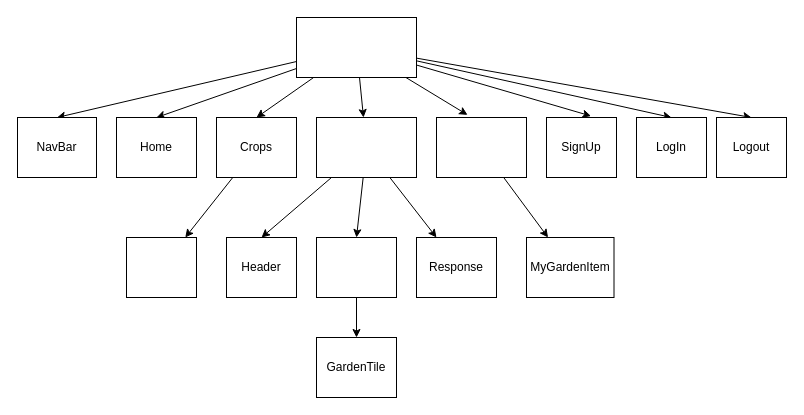
This 804x415 diagram has some shape labels left out. The shapes that lost their labels are listed below. From the top down, each one's box as (x1, y1, x2, y2) in pixels, then its label:
(296, 16, 416, 78): App
(316, 116, 416, 178): CreateGarden
(436, 116, 526, 178): MyGardens
(126, 236, 196, 298): CropItem
(316, 236, 396, 298): GardenGrid
